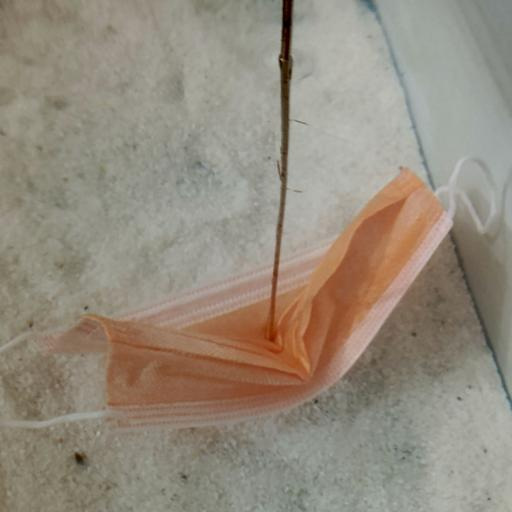mask: (22, 147, 502, 419)
